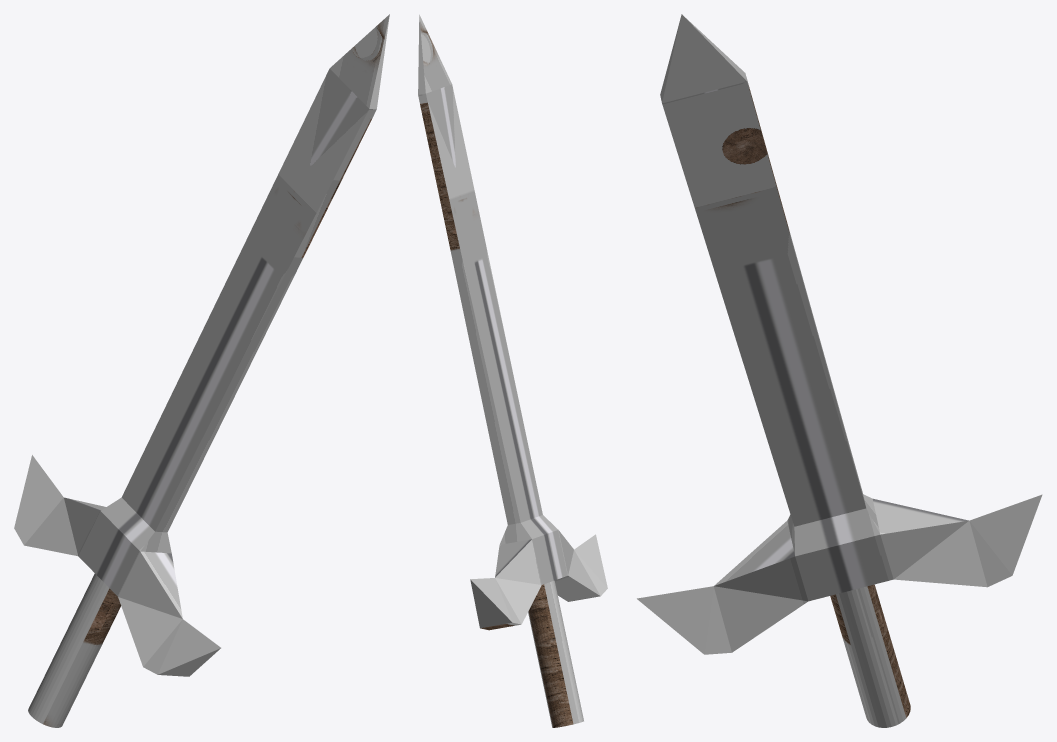
File: Protagonista15.obj
3 views of the same model, side by side, from view 1: azimuth 30°, elevation 25°; view 2: azimuth 150°, elevation 25°; view 3: azimuth 270°, elevation 25° (orthographic). The views are drawn at different scales.
Parts seen in each view (by area): view 1: Cube; view 2: Cube; view 3: Cube.
Boxes of the visible parts, x1=… form: Cube: x1=14, y1=14, x2=389, y2=727; Cube: x1=418, y1=14, x2=607, y2=727; Cube: x1=637, y1=14, x2=1042, y2=727.
Bounding box in the file's own units: 0.6531 × 1.61 × 0.6922.
1 material, 1 textured.
